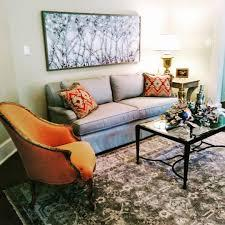chair: (2, 104, 98, 208)
light: (146, 32, 187, 74), (20, 42, 32, 58)
sofa: (38, 74, 182, 148)
table: (134, 108, 225, 188), (171, 75, 200, 109)
